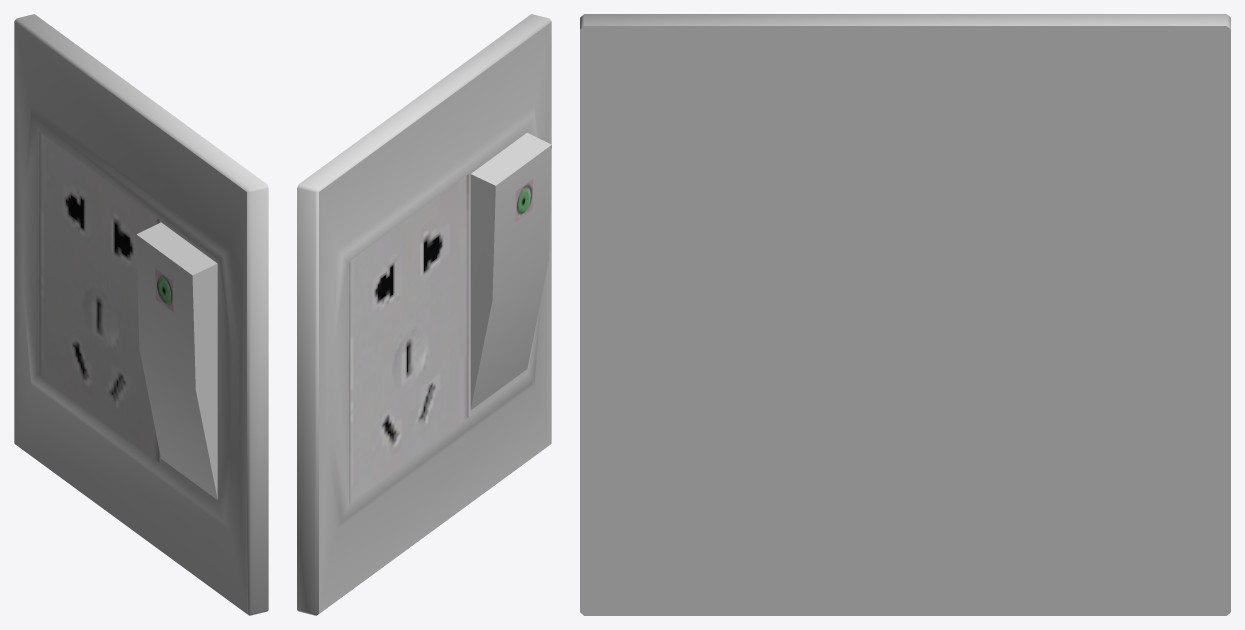
The model's file is LPA12.FBX.
The picture shows the model from 3 angles, left to right: view 1: azimuth 30°, elevation 25°; view 2: azimuth 150°, elevation 25°; view 3: azimuth 270°, elevation 25°; orthographic projection. The views are drawn at different scales.
Visible parts, largest first — view 1: LPA12; view 2: LPA12; view 3: LPA12.
Part boxes in pixels (x1,y1,x2,y2): LPA12: (14,14,268,615); LPA12: (297,14,551,615); LPA12: (580,14,1230,615).
Size of the model in its own units: 1.18 by 10 by 10.
